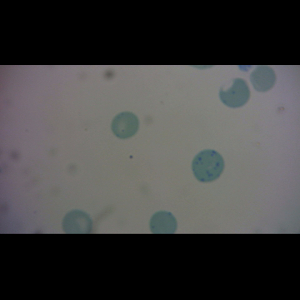aggregate reticulocyte: (191, 149, 227, 183)
erythrocyte: (61, 209, 93, 235), (249, 65, 277, 94)
punctate reticulocyte: (219, 76, 251, 109), (111, 110, 140, 140), (148, 210, 178, 234)
